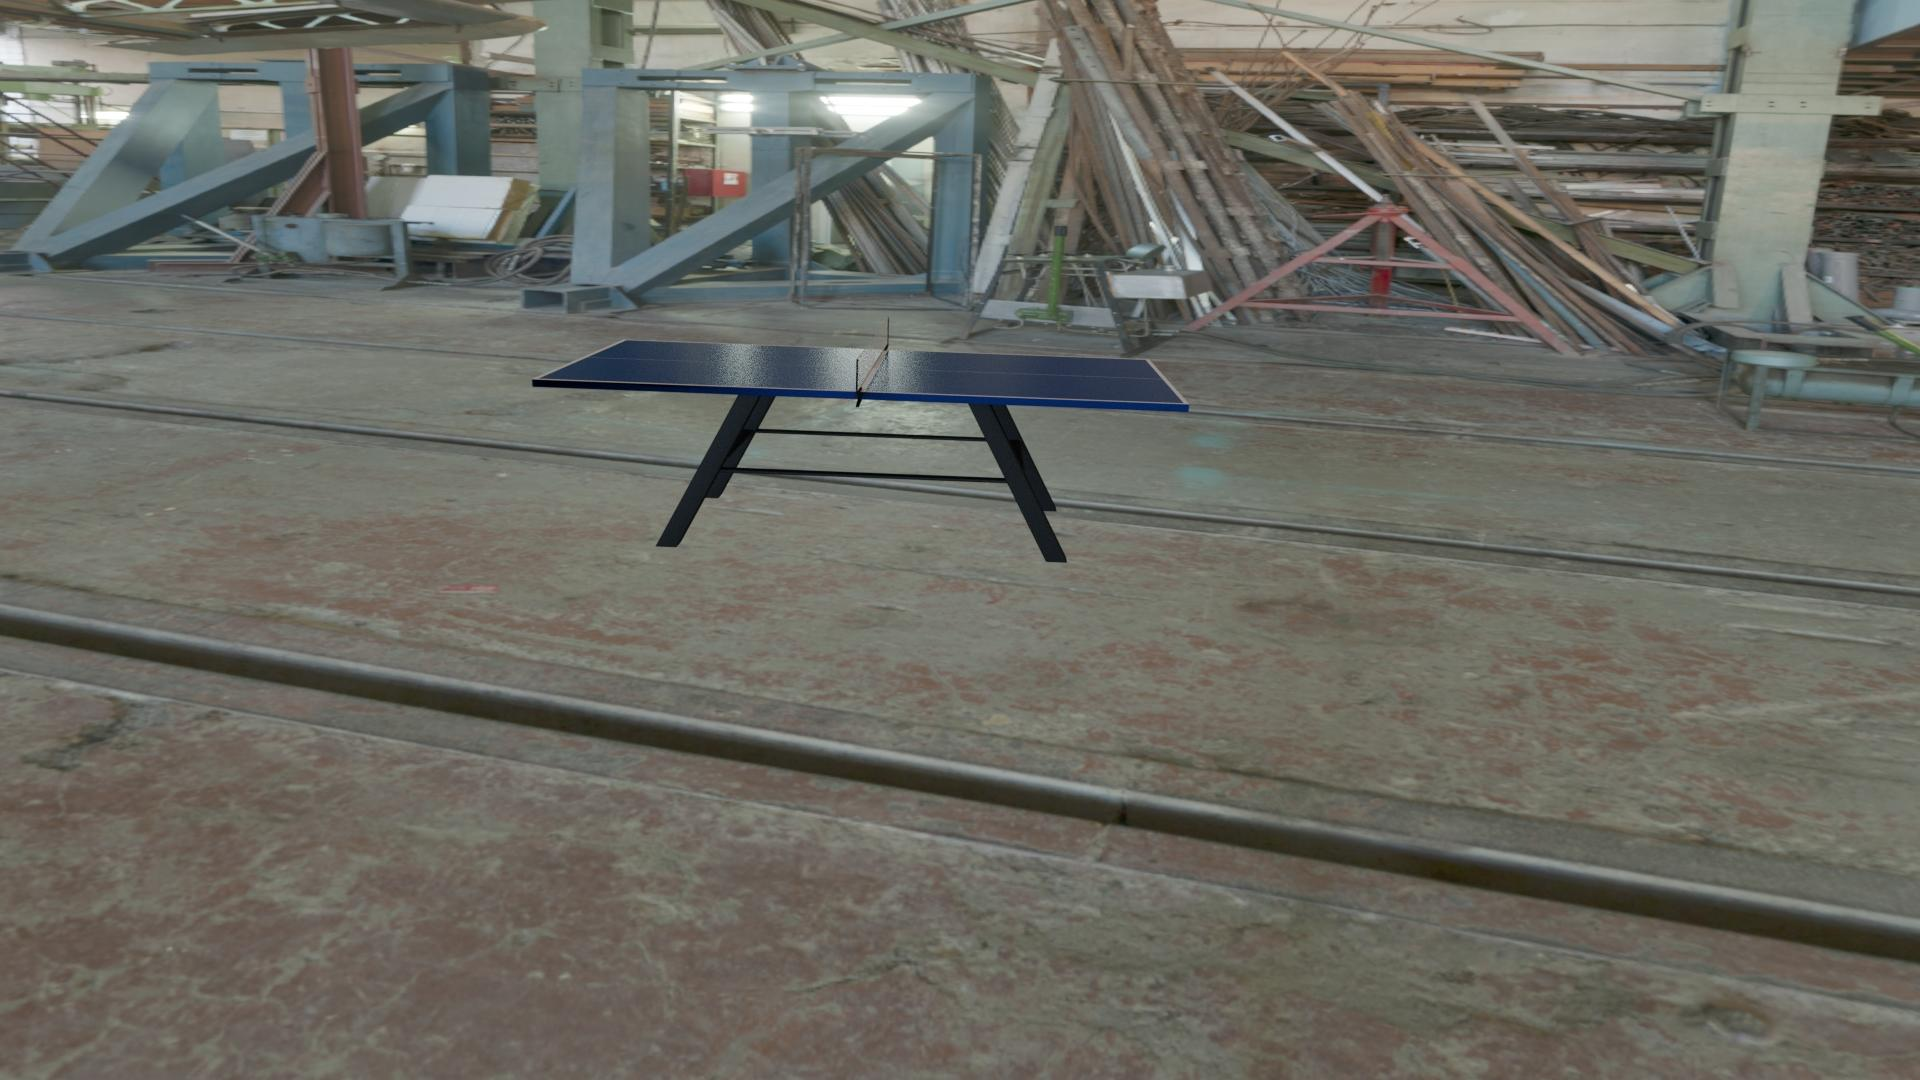table: (538, 340, 1184, 404)
